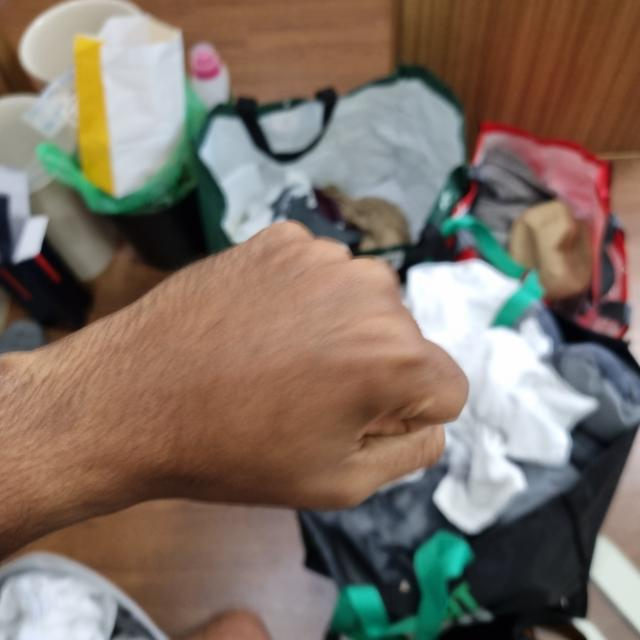Rock: (37, 221, 469, 513)
